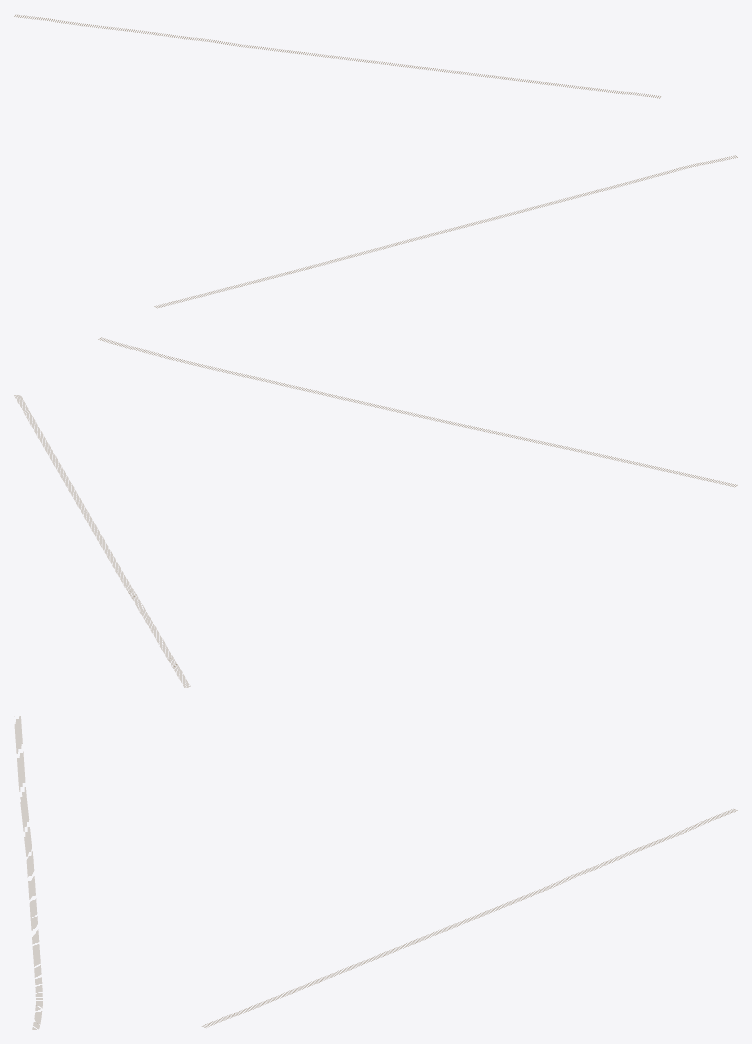
File: c_1624_17827_rail_sleeper.glb
3 views of the same model, one above another, from view 1: azimuth 30°, elevation 25°; view 2: azimuth 150°, elevation 25°; view 3: azimuth 270°, elevation 25° (orthographic). The views are drawn at different scales.
Parts seen in each view (by area): view 1: geometry_0; view 2: geometry_0; view 3: geometry_0.
Part boxes in pixels (left/top/right/bottom): geometry_0: left=14, top=15, right=737, bottom=308; geometry_0: left=14, top=337, right=737, bottom=687; geometry_0: left=15, top=716, right=737, bottom=1029.
Bounding box in the file's own units: 256 × 2.73 × 248.
